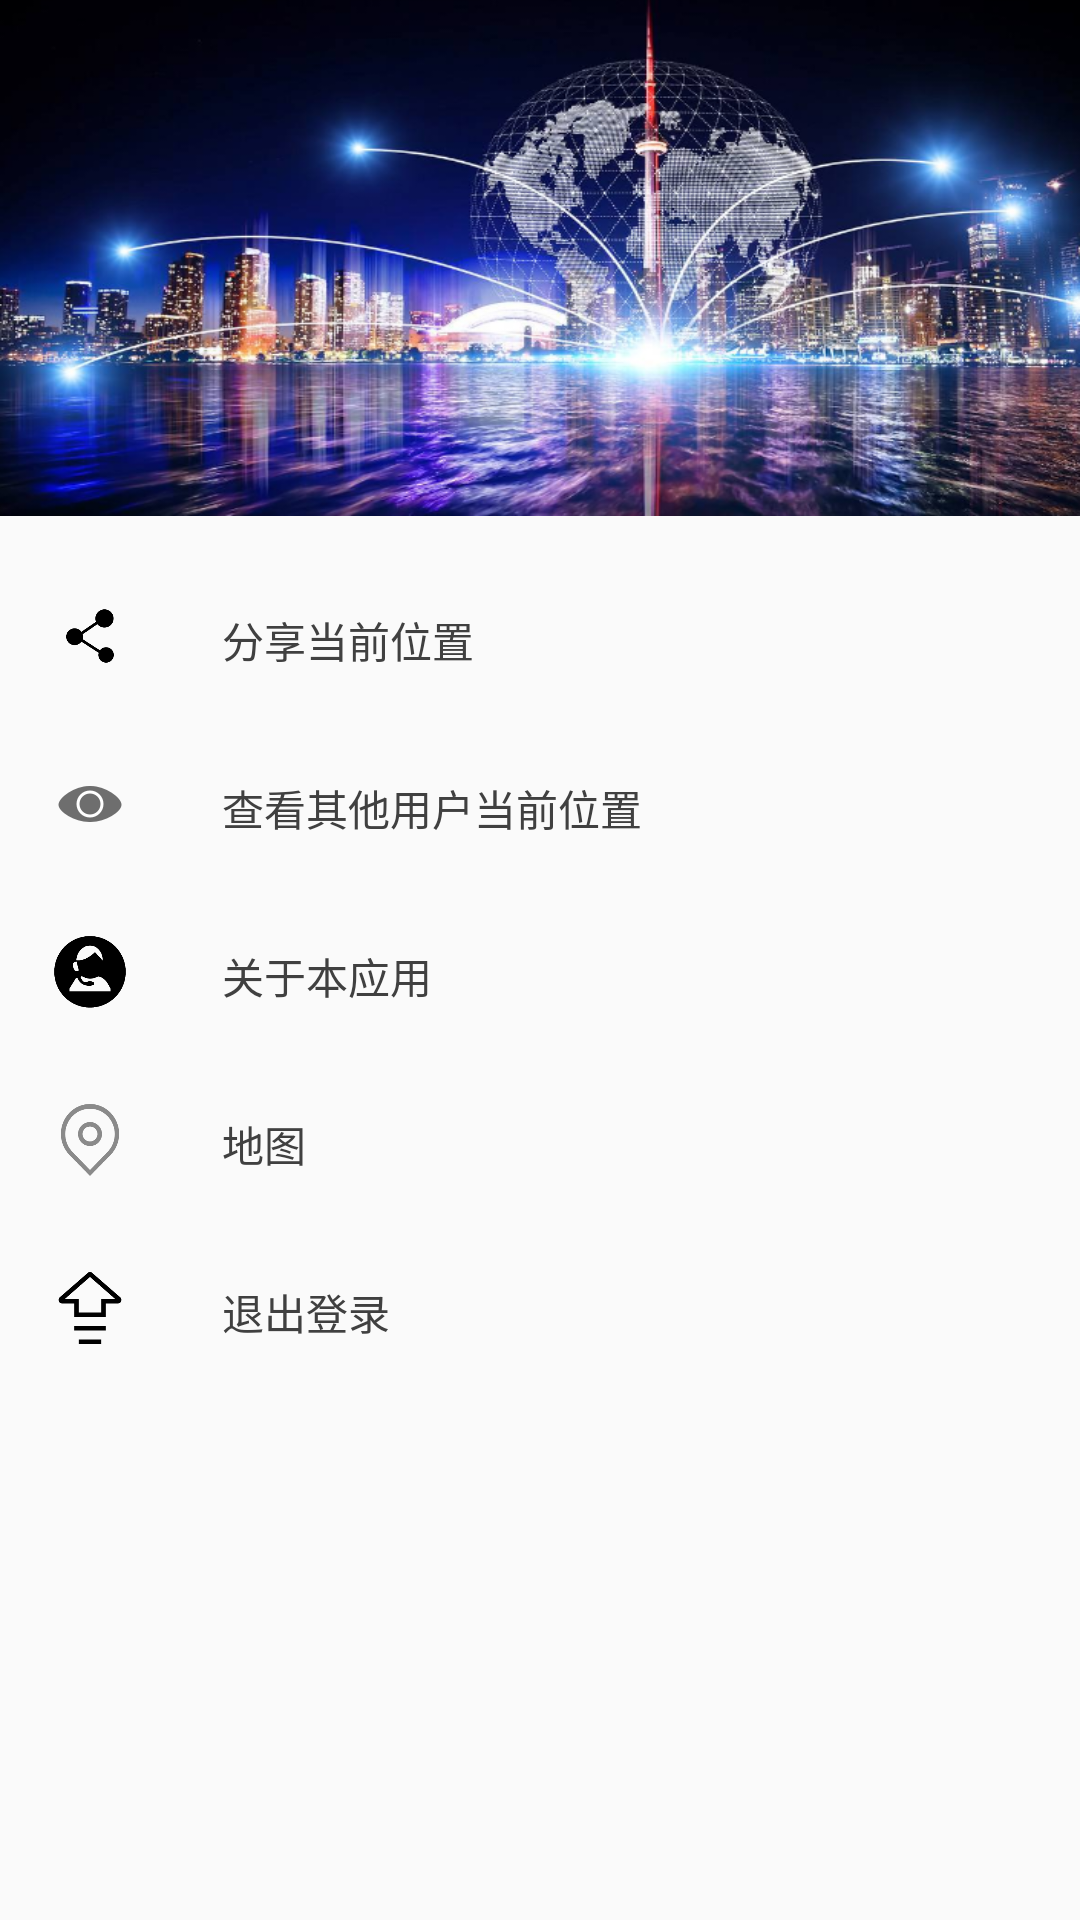

Where icons sit on this 1080 × 1920 app screen, as [x1=x1, y1=y1, x2=x2, y2=y2]:
location unpress: [x1=61, y1=1104, x2=119, y2=1176]
share my location: [x1=66, y1=609, x2=114, y2=663]
up data version: [x1=58, y1=1272, x2=122, y2=1344]
